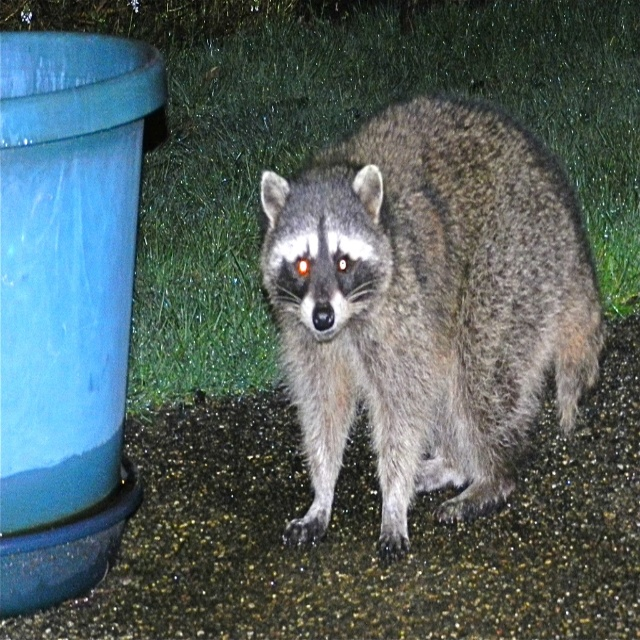Raccoon: (259, 97, 607, 568)
